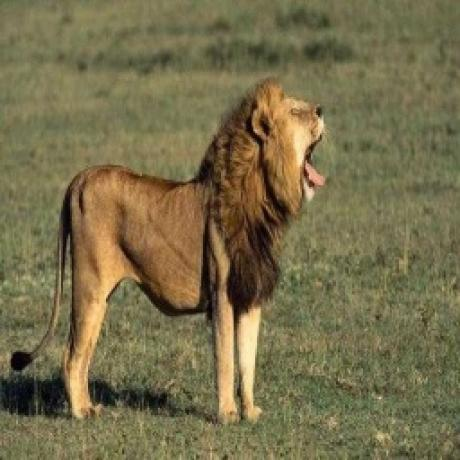Lion: (8, 74, 329, 428)
